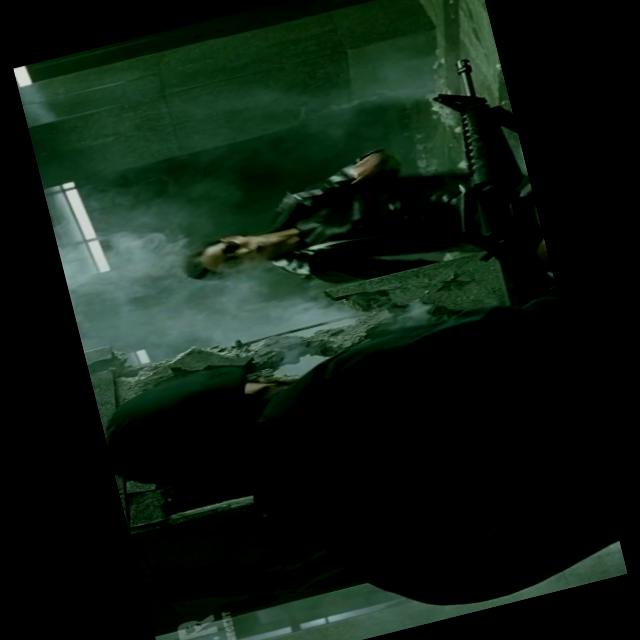long weapon: (395, 15, 580, 327)
